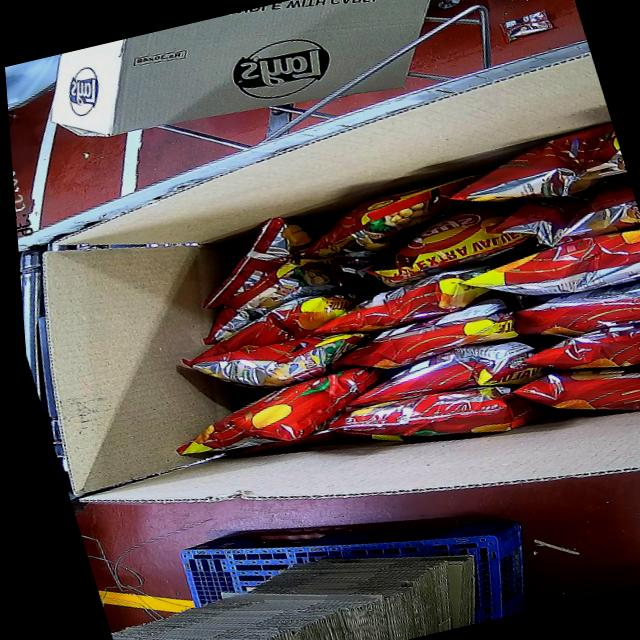MASALA: (104, 120, 640, 517)
